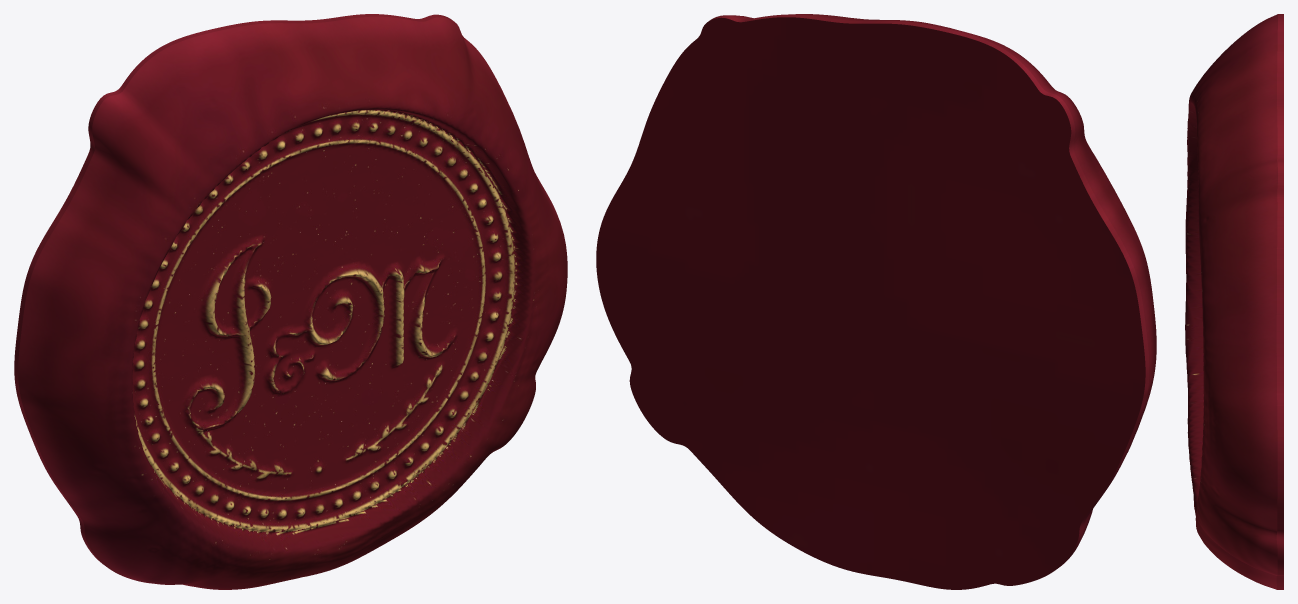
File: sello.glb
3 views of the same model, side by side, from view 1: azimuth 30°, elevation 25°; view 2: azimuth 150°, elevation 25°; view 3: azimuth 270°, elevation 25° (orthographic). The views are drawn at different scales.
Parts seen in each view (by area): view 1: sello_entero, sello_frag_0, sello_frag_2, sello_frag_3, sello_frag_1; view 2: sello_entero, sello_frag_0, sello_frag_2, sello_frag_3, sello_frag_1; view 3: sello_entero, sello_frag_0, sello_frag_3, sello_frag_2, sello_frag_1.
Boxes of the visible parts, box(x1,y1,x2,y2) form: sello_entero: box(14, 14, 567, 589); sello_frag_0: box(75, 14, 532, 328); sello_frag_2: box(18, 268, 339, 589); sello_frag_3: box(302, 162, 567, 576); sello_frag_1: box(14, 185, 230, 403); sello_entero: box(596, 14, 1156, 589); sello_frag_0: box(640, 14, 1103, 297); sello_frag_2: box(857, 247, 1151, 589); sello_frag_3: box(596, 144, 895, 579); sello_frag_1: box(979, 172, 1156, 403); sello_entero: box(1185, 14, 1283, 589); sello_frag_0: box(1187, 14, 1283, 334); sello_frag_3: box(1194, 328, 1283, 589); sello_frag_2: box(1185, 224, 1203, 504); sello_frag_1: box(1185, 128, 1198, 225).
Bounding box in the file's own units: 0.0357 × 0.0349 × 0.00627.
Materials: 2 (2 with a texture image).
